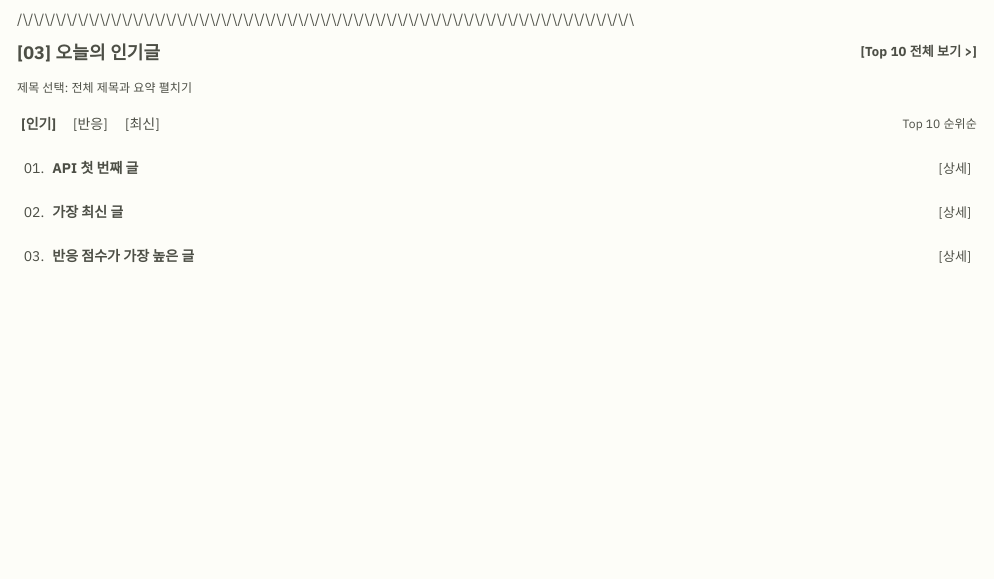
TrendingPostFeed › sorts reaction and latest modes only with real BoardPost values
Click the button "[반응]": (91, 124) [69,102,113,146]
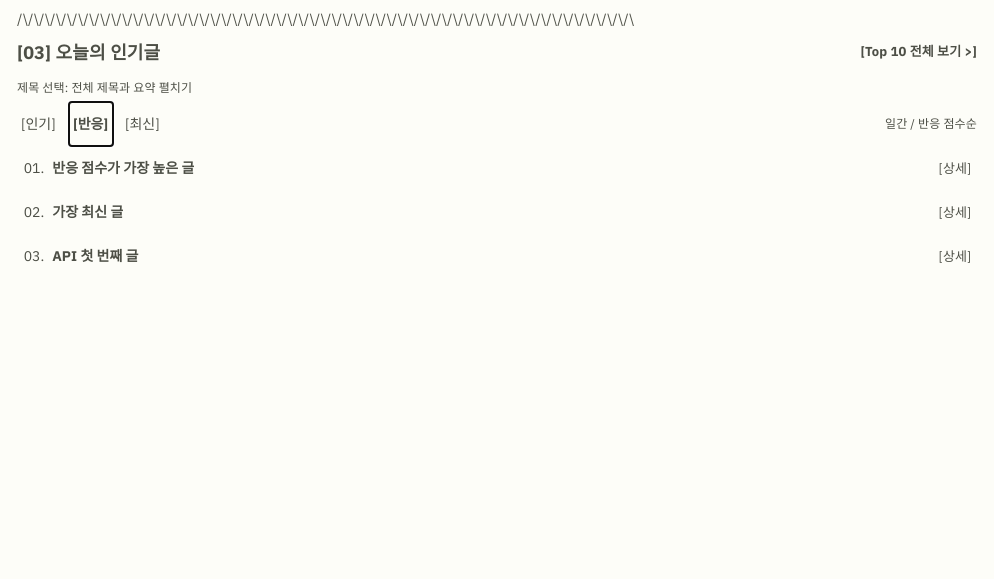
Click the button "01. 반응 점수가 가장 높은 글": (123, 168) [17,146,925,190]
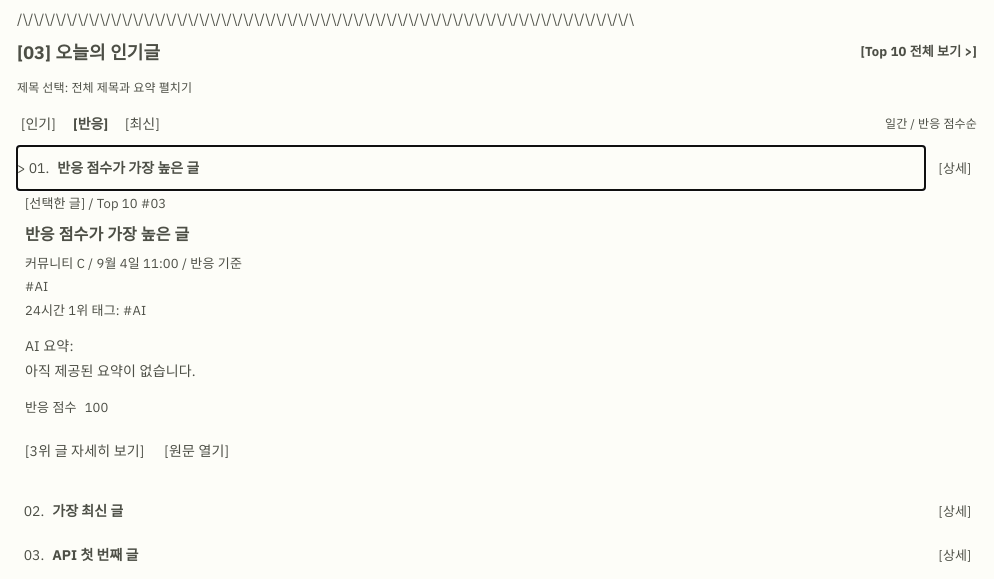
Check: the heading "반응 점수가 가장 높은 글" is shown, box [25,224,189,244]
Click the button "[최신]": (143, 124) [121,102,165,146]
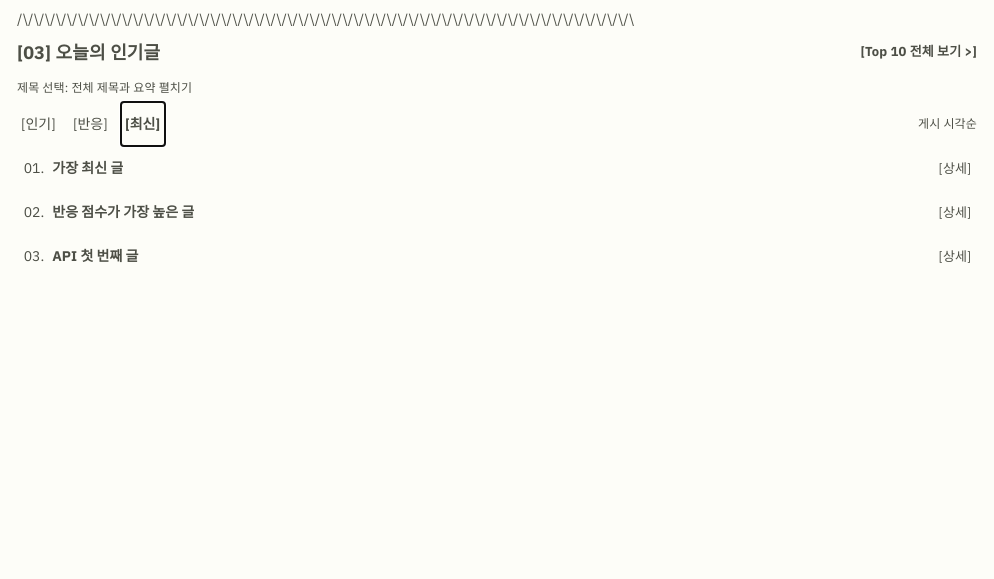
Click the button "01. 가장 최신 글": (88, 168) [17,146,925,190]
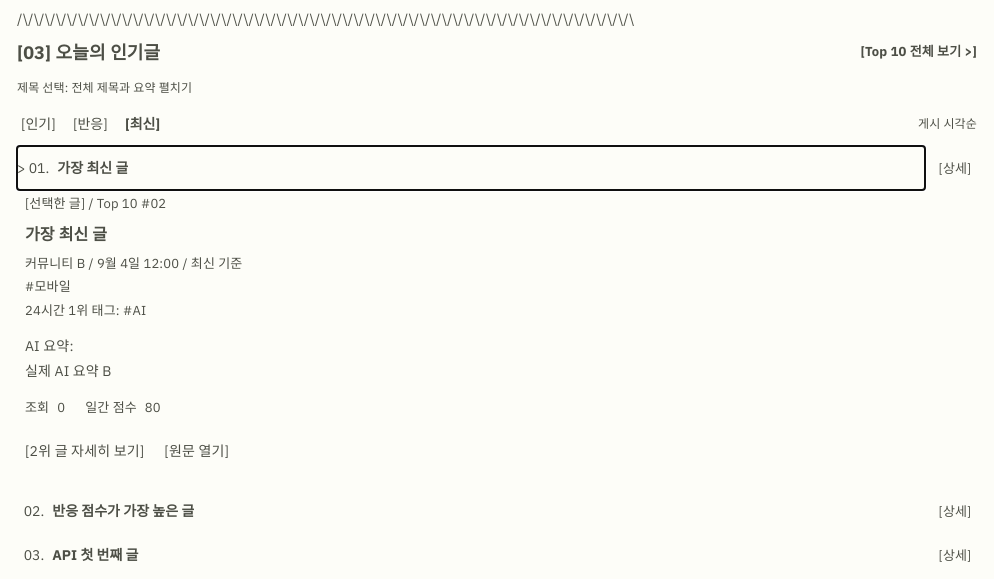
Check: the heading "가장 최신 글" is shown, box [25,224,107,244]
